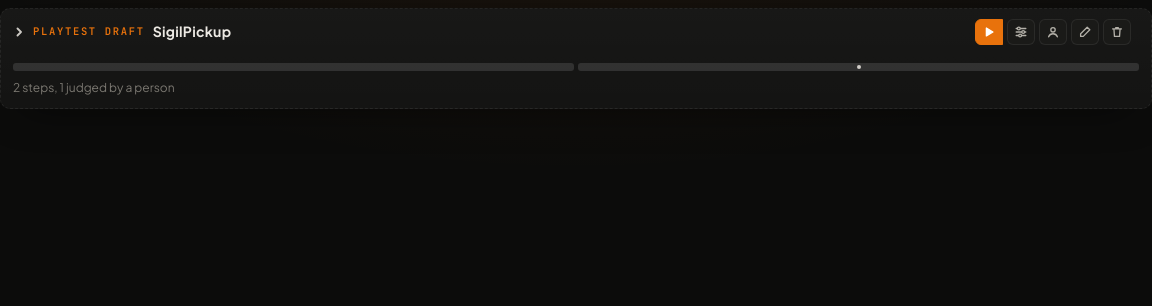
Scenario: a draft Playtest card › shows ue-mcp's refusal of a Start playtest
Click the button "Playtest draft SigilPickup". click: (122, 32)
box: [13,21,231,43]
(page scrolled)
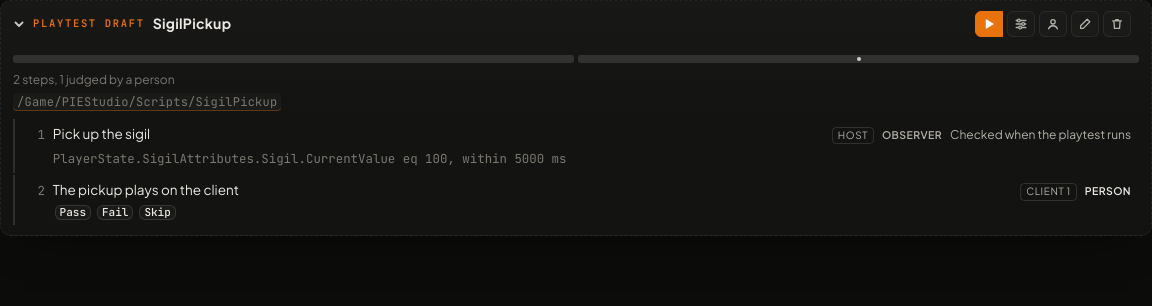
Click the button named "Start playtest". click: (989, 24)
box: [975,11,1003,37]
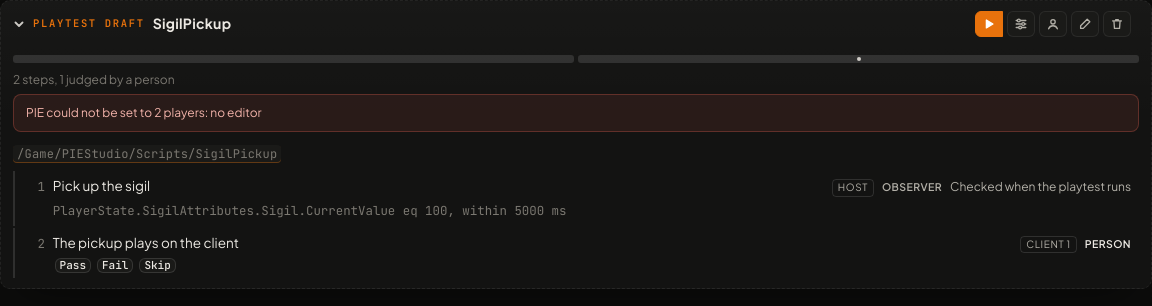
expect the text "Playtest draft" is shown: met, box [33,17,145,31]
expect the text "PIE could not be set to 2 players: no editor" is shown: met, box [13,94,1139,132]
